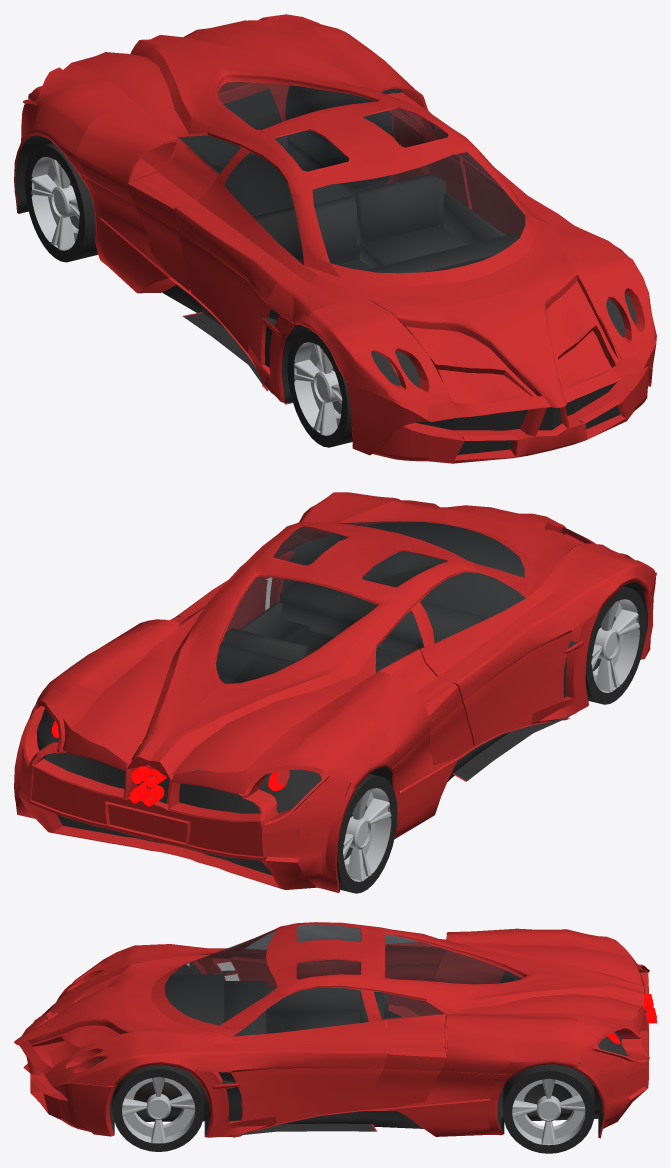
The model's file is car_furacao.glb.
3 views of the same model, one above another, from view 1: azimuth 30°, elevation 25°; view 2: azimuth 150°, elevation 25°; view 3: azimuth 270°, elevation 25° (orthographic). The views are drawn at different scales.
Visible parts, largest first — view 1: body, hood, interior, bumper_F, door_R, wheel_RR, wheel_FR, door_L, bumper_R, mirror_R; view 2: body, interior, door_R, bumper_R, hood, wheel_RR, wheel_FR, mirror_R, door_L, light_RR; view 3: body, hood, door_L, interior, wheel_RL, wheel_FL, bumper_F, door_R, mirror_L, bumper_R, mirror_R.
Boxes of the visible parts, x1=… form: body: x1=14, y1=14, x2=656, y2=461; hood: x1=288, y1=207, x2=656, y2=440; interior: x1=253, y1=173, x2=519, y2=371; bumper_F: x1=426, y1=355, x2=644, y2=463; door_R: x1=175, y1=176, x2=312, y2=364; wheel_RR: x1=25, y1=143, x2=97, y2=262; wheel_FR: x1=287, y1=329, x2=352, y2=447; door_L: x1=418, y1=127, x2=540, y2=237; bumper_R: x1=21, y1=82, x2=289, y2=143; mirror_R: x1=255, y1=257, x2=332, y2=325; body: x1=14, y1=492, x2=656, y2=892; interior: x1=216, y1=522, x2=601, y2=683; door_R: x1=421, y1=583, x2=571, y2=747; bumper_R: x1=18, y1=761, x2=323, y2=889; hood: x1=284, y1=492, x2=656, y2=605; wheel_RR: x1=337, y1=774, x2=397, y2=893; wheel_FR: x1=585, y1=586, x2=645, y2=704; mirror_R: x1=517, y1=572, x2=611, y2=631; door_L: x1=177, y1=533, x2=311, y2=642; light_RR: x1=140, y1=768, x2=285, y2=806; body: x1=49, y1=922, x2=649, y2=1138; hood: x1=37, y1=950, x2=234, y2=1100; door_L: x1=230, y1=1020, x2=388, y2=1123; interior: x1=110, y1=974, x2=388, y2=1111; wheel_RL: x1=503, y1=1064, x2=594, y2=1153; wheel_FL: x1=112, y1=1065, x2=204, y2=1151; bumper_F: x1=14, y1=1002, x2=69, y2=1119; door_R: x1=230, y1=944, x2=386, y2=987; mirror_L: x1=170, y1=1046, x2=275, y2=1072; bumper_R: x1=603, y1=1053, x2=648, y2=1128; mirror_R: x1=170, y1=944, x2=261, y2=963.
Bounding box in the file's own units: 1.96 × 1.11 × 4.45.
